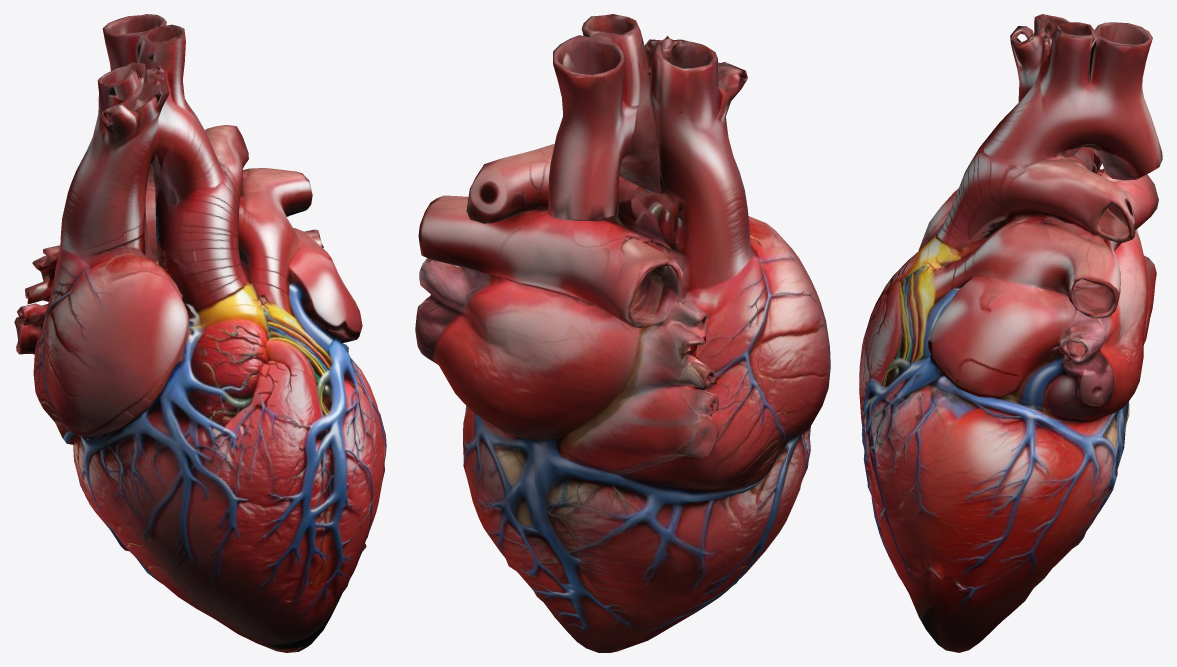
The model's file is heart.glb.
3 views of the same model, side by side, from view 1: azimuth 30°, elevation 25°; view 2: azimuth 150°, elevation 25°; view 3: azimuth 270°, elevation 25° (orthographic). The views are drawn at different scales.
Parts seen in each view (by area): view 1: Object_4; view 2: Object_4; view 3: Object_4.
Part boxes in pixels (box(x1,y1,x2,y2)): Object_4: box(14, 14, 386, 652); Object_4: box(415, 14, 830, 652); Object_4: box(859, 14, 1162, 652).
Size of the model in its own units: 1.05 by 2 by 0.9332.
1 material, 1 textured.
